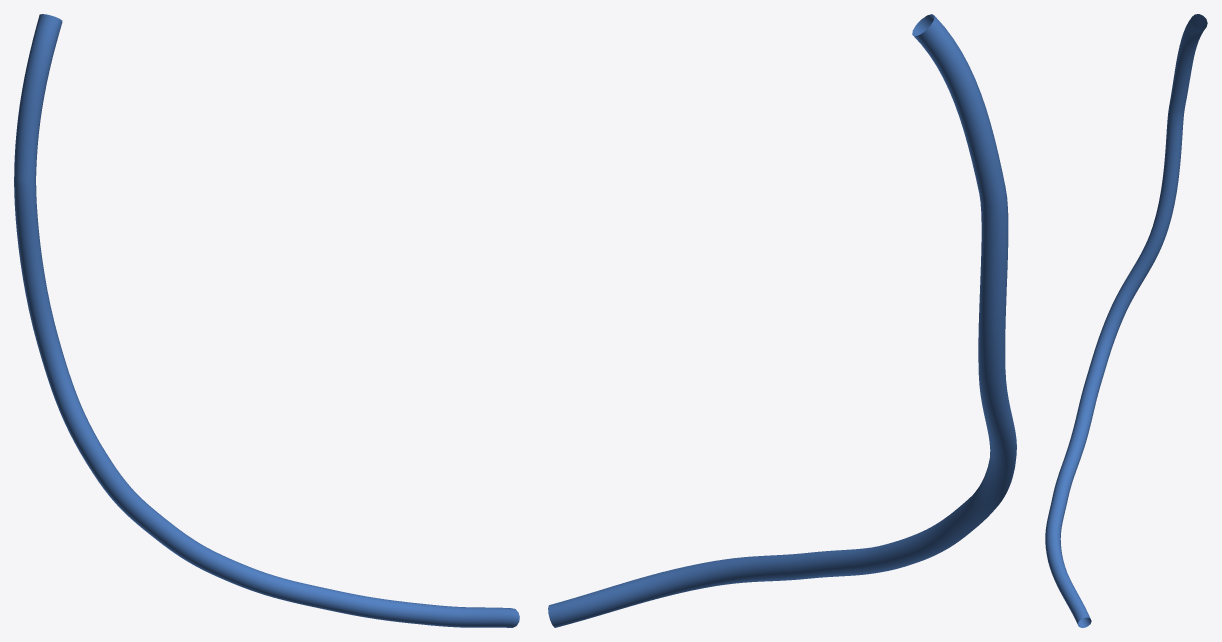
The picture shows the model from 3 angles, left to right: view 1: azimuth 30°, elevation 25°; view 2: azimuth 150°, elevation 25°; view 3: azimuth 270°, elevation 25°; orthographic projection. The views are drawn at different scales.
Visible parts, largest first — view 1: 右侧足背静脉弓; view 2: 右侧足背静脉弓; view 3: 右侧足背静脉弓.
Part boxes in pixels (box(x1,y1,x2,y2)): 右侧足背静脉弓: box(14, 14, 519, 627); 右侧足背静脉弓: box(548, 14, 1016, 627); 右侧足背静脉弓: box(1045, 14, 1207, 627).
Size of the model in its own units: 0.0671 by 0.0953 by 0.0295.
